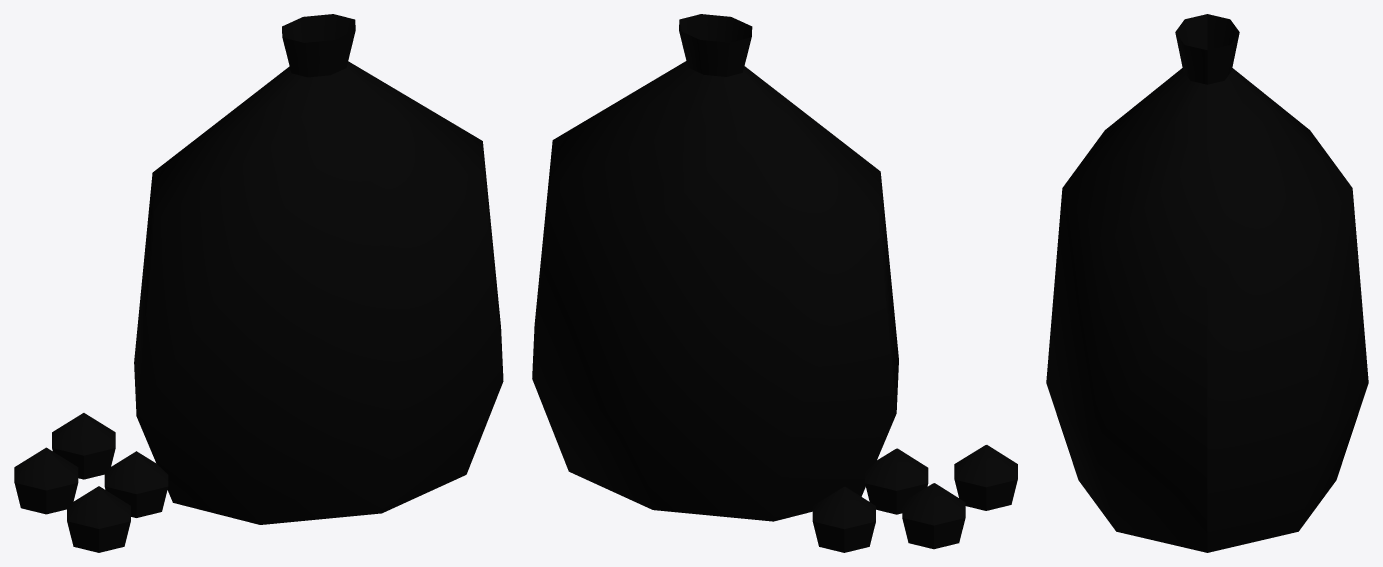
File: SM_onions.fbx
3 renders of one model, left to right at view 1: azimuth 30°, elevation 25°; view 2: azimuth 150°, elevation 25°; view 3: azimuth 270°, elevation 25°, orthographic. The views are drawn at different scales.
Parts seen in each view (by area): view 1: onions; view 2: onions; view 3: onions.
Part boxes in pixels (bbox=[...]): onions: bbox=[14, 14, 503, 552]; onions: bbox=[532, 14, 1017, 552]; onions: bbox=[1046, 14, 1368, 552].
Size of the model in its own units: 0.505 by 0.46 by 0.3.
